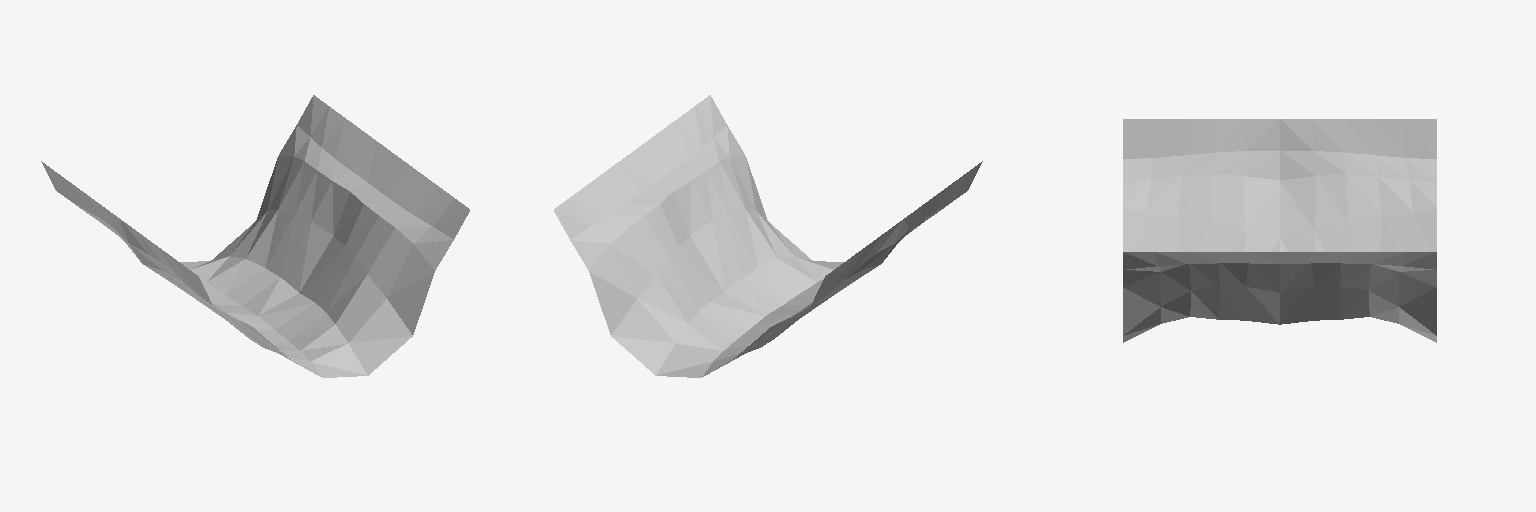
Rendered from des_trench_ns.obj.
The picture shows the model from 3 angles: view 1: azimuth 30°, elevation 25°; view 2: azimuth 150°, elevation 25°; view 3: azimuth 270°, elevation 25°; orthographic projection.
Parts seen in each view (by area): view 1: polySurface4 polySurface2 trench2; view 2: polySurface4 polySurface2 trench2; view 3: polySurface4 polySurface2 trench2.
Boxes of the visible parts, box(x1,y1,x2,y2) form: polySurface4 polySurface2 trench2: box(41, 95, 469, 377); polySurface4 polySurface2 trench2: box(554, 95, 982, 377); polySurface4 polySurface2 trench2: box(1123, 119, 1436, 342).
Size of the model in its own units: 1 by 0.4954 by 1.